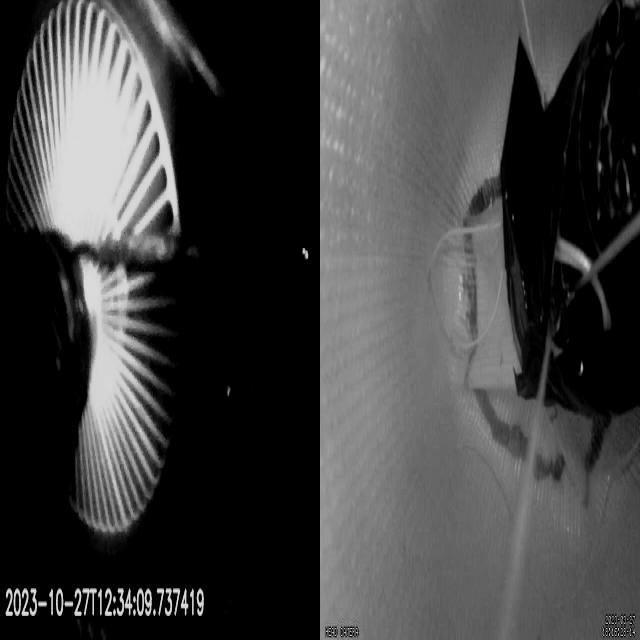red-circle: (464, 179, 609, 490)
